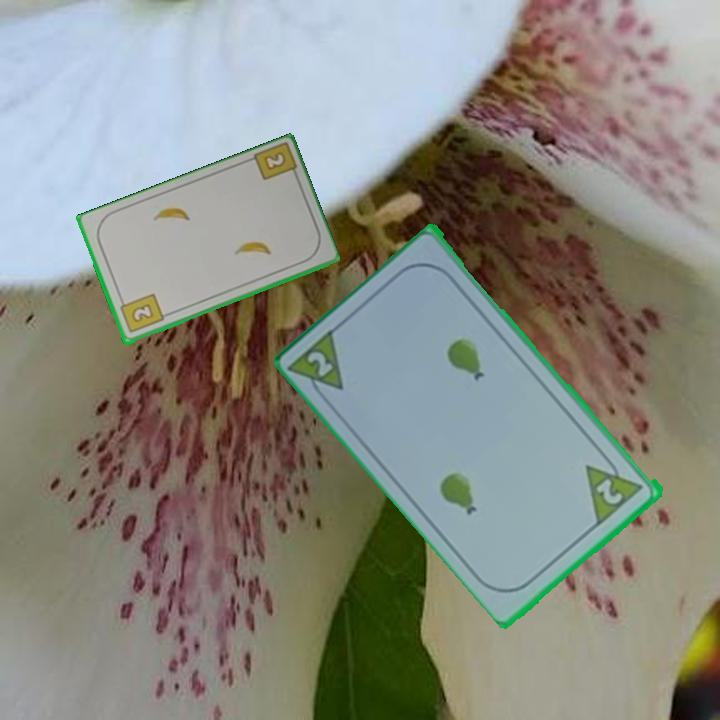2b: (116, 290, 166, 336), (260, 148, 288, 174)
2p: (286, 324, 348, 407), (593, 474, 627, 508)
